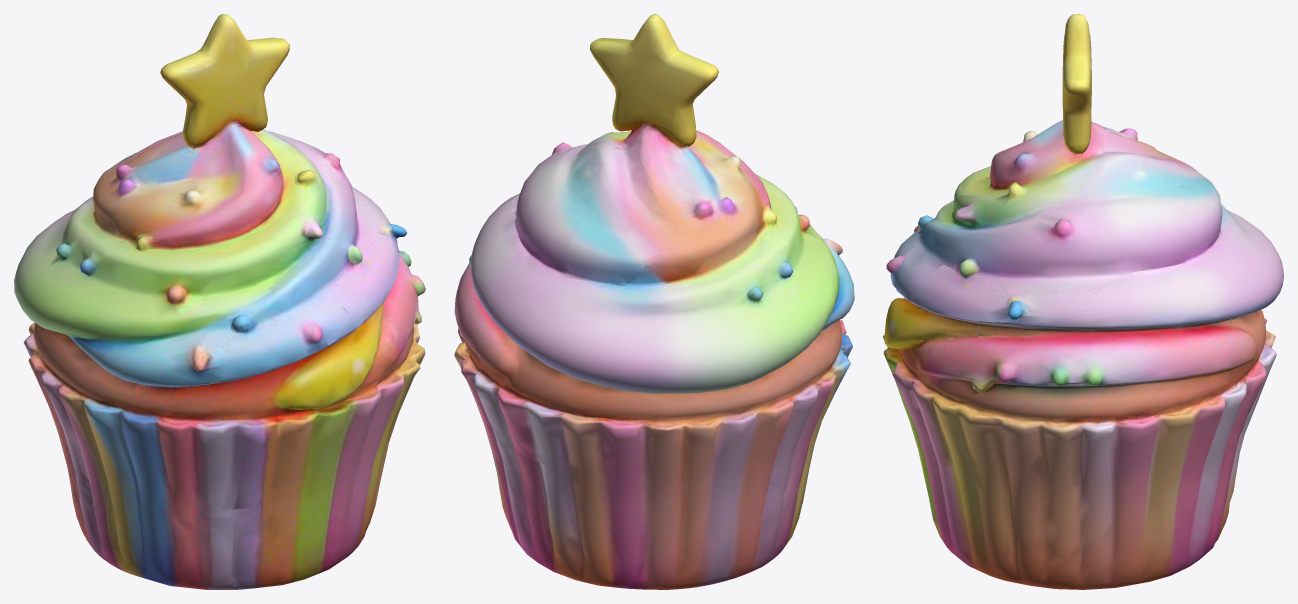
The model's file is rainbow_cupcake.glb.
The picture shows the model from 3 angles, left to right: view 1: azimuth 30°, elevation 25°; view 2: azimuth 150°, elevation 25°; view 3: azimuth 270°, elevation 25°; orthographic projection.
Visible parts, largest first — view 1: rainbow_cupcake; view 2: rainbow_cupcake; view 3: rainbow_cupcake.
Part boxes in pixels (bbox=[...]): rainbow_cupcake: bbox=[14, 14, 425, 589]; rainbow_cupcake: bbox=[454, 14, 854, 589]; rainbow_cupcake: bbox=[883, 14, 1283, 589].
Bounding box in the file's own units: 0.2536 × 0.36 × 0.2511.
Materials: 1 (1 with a texture image).
